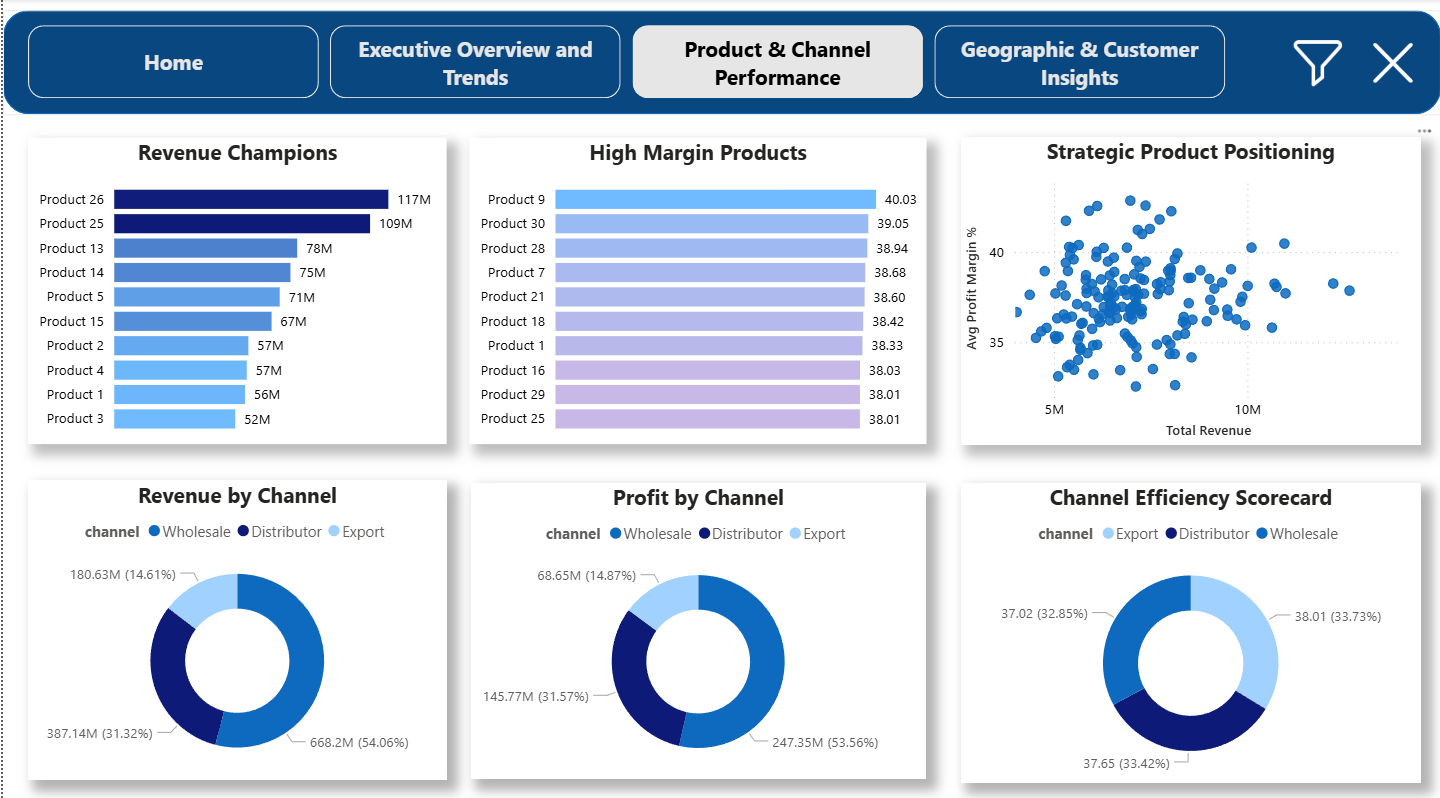

Layout of this report page (visuals, bound fields, positions):
{"tool":"powerbi","page":{"name":"Product & Channel Performance","canvas":[1280,720],"ordinal":2},"visuals":[{"type":"donutChart","title":"Revenue by Channel","fields":{"Y":["Sum(Sales_data(EDA Exported).revenue)"],"Category":["Sales_data(EDA Exported).channel"]},"box":[22.4,428.4,373.1,267.2],"z":0},{"type":"donutChart","title":"Profit by Channel","fields":{"Category":["Sales_data(EDA Exported).channel"],"Y":["Sum(Sales_data(EDA Exported).profit)"]},"box":[416.4,431.3,406,264.2],"z":1000},{"type":"donutChart","title":"Channel Efficiency Scorecard","fields":{"Category":["Sales_data(EDA Exported).channel"],"Y":["Custom Measures.Profit Margin (%)"]},"box":[852.2,431.3,410.4,267.2],"z":2000},{"type":"barChart","title":"High Margin Products","fields":{"Y":["Custom Measures.Profit Margin (%)"],"Category":["Sales_data(EDA Exported).product_name"]},"box":[414.9,123.9,407.5,273.1],"z":3000},{"type":"barChart","title":"Revenue Champions","fields":{"Category":["Sales_data(EDA Exported).product_name"],"Y":["Sum(Sales_data(EDA Exported).revenue)"]},"box":[22.4,123.9,373.1,273.1],"z":4000},{"type":"shape","box":[0,10.4,1280.6,92.5],"z":5000},{"type":"pageNavigator","box":[22.4,23.9,1067.2,65.7],"z":6000},{"type":"scatterChart","title":"Strategic Product Positioning","fields":{"X":["Sum(CustomerSummary.TotalRevenue)"],"Y":["Sum(CustomerSummary.AvgProfitMargin)"],"Category":["CustomerSummary.customer_name"]},"box":[852.2,122.4,410.4,274.6],"z":7000},{"type":"image","box":[1137,26.1,69.5,60.8],"z":8000},{"type":"image","box":[1212.7,34.8,50.9,44.7],"z":9000}]}

Visuals, with their boxes in screenshot pixels (x1, y1, x2, y2), scaled from the page's 1280x720 canvas onto the 1440x798 screenshot:
"Revenue by Channel" donutChart: [x1=25, y1=475, x2=445, y2=771]
"Profit by Channel" donutChart: [x1=468, y1=478, x2=925, y2=771]
"Channel Efficiency Scorecard" donutChart: [x1=959, y1=478, x2=1420, y2=774]
"High Margin Products" barChart: [x1=467, y1=137, x2=925, y2=440]
"Revenue Champions" barChart: [x1=25, y1=137, x2=445, y2=440]
shape: [x1=0, y1=12, x2=1439, y2=114]
pageNavigator: [x1=25, y1=26, x2=1226, y2=99]
"Strategic Product Positioning" scatterChart: [x1=959, y1=136, x2=1420, y2=440]
image: [x1=1279, y1=29, x2=1357, y2=96]
image: [x1=1364, y1=39, x2=1422, y2=88]
